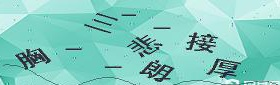chinese: (186, 29, 217, 53), (210, 57, 239, 81), (142, 60, 170, 83), (130, 34, 157, 56), (19, 48, 44, 70)
